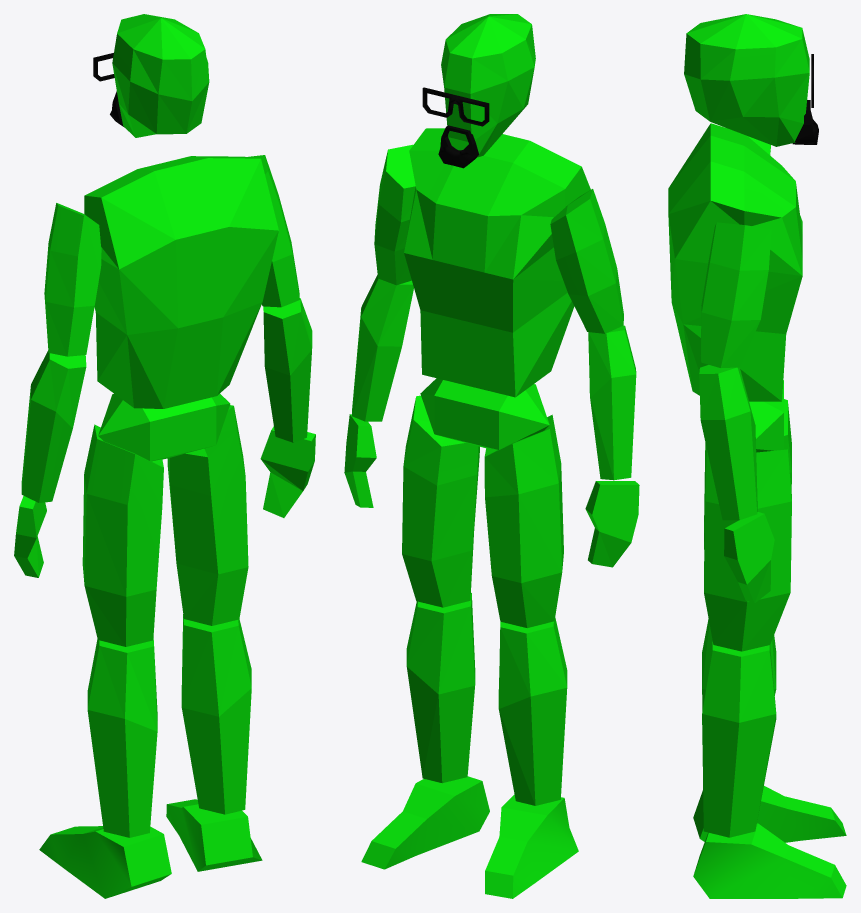
Rendered from info_player_start_new.obj.
The picture shows the model from 3 angles, left to right: view 1: azimuth 30°, elevation 25°; view 2: azimuth 150°, elevation 25°; view 3: azimuth 270°, elevation 25°; orthographic projection. The views are drawn at different scales.
Parts seen in each view (by area): view 1: info_player_start; view 2: info_player_start; view 3: info_player_start.
Part boxes in pixels (x1,y1,x2,y2): info_player_start: (14, 14, 315, 898); info_player_start: (344, 14, 639, 898); info_player_start: (668, 14, 846, 898).
Bounding box in the file's own units: 0.7597 × 2.06 × 0.3945.
